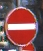No entry: (5, 6, 38, 46)
